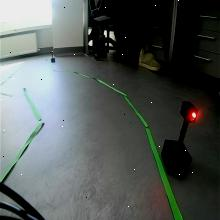red: (181, 100, 199, 124)
